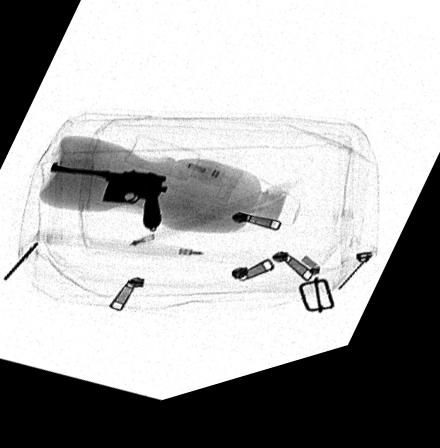Gun: (46, 163, 170, 242)
